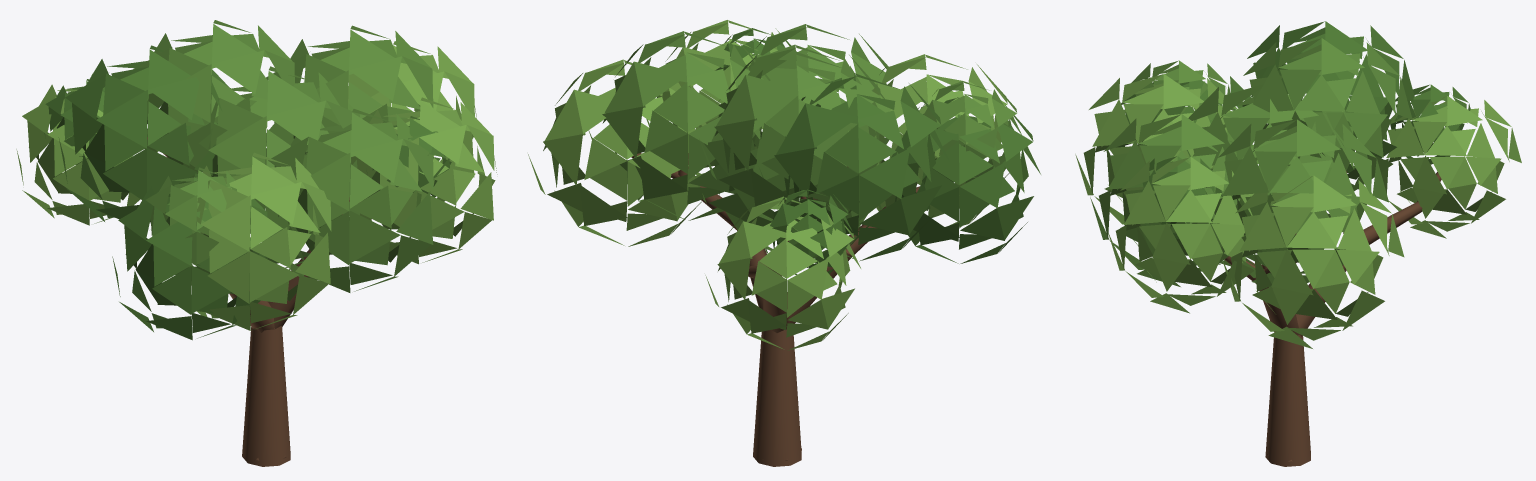
Rendered from lowpoly-oak-tree.glb.
3 views of the same model, side by side, from view 1: azimuth 30°, elevation 25°; view 2: azimuth 150°, elevation 25°; view 3: azimuth 270°, elevation 25° (orthographic). The views are drawn at different scales.
Visible parts, largest first — view 1: canopy, canopy_core, branch_0, branch_1; view 2: canopy, branch_0, canopy_core; view 3: canopy, branch_0, canopy_core, branch_16, branch_1.
Part boxes in pixels (box(x1,y1,x2,y2)): canopy: box(16, 20, 497, 340); canopy_core: box(183, 66, 359, 267); branch_0: box(242, 326, 290, 466); branch_1: box(268, 249, 329, 328); canopy: box(528, 20, 1040, 350); branch_0: box(753, 329, 801, 466); canopy_core: box(688, 51, 891, 258); canopy: box(1075, 21, 1521, 348); branch_0: box(1265, 335, 1310, 466); canopy_core: box(1188, 84, 1367, 266); branch_16: box(1363, 201, 1422, 244); branch_1: box(1259, 287, 1299, 339).
Bounding box in the file's own units: 4.3 × 4.17 × 4.18.
